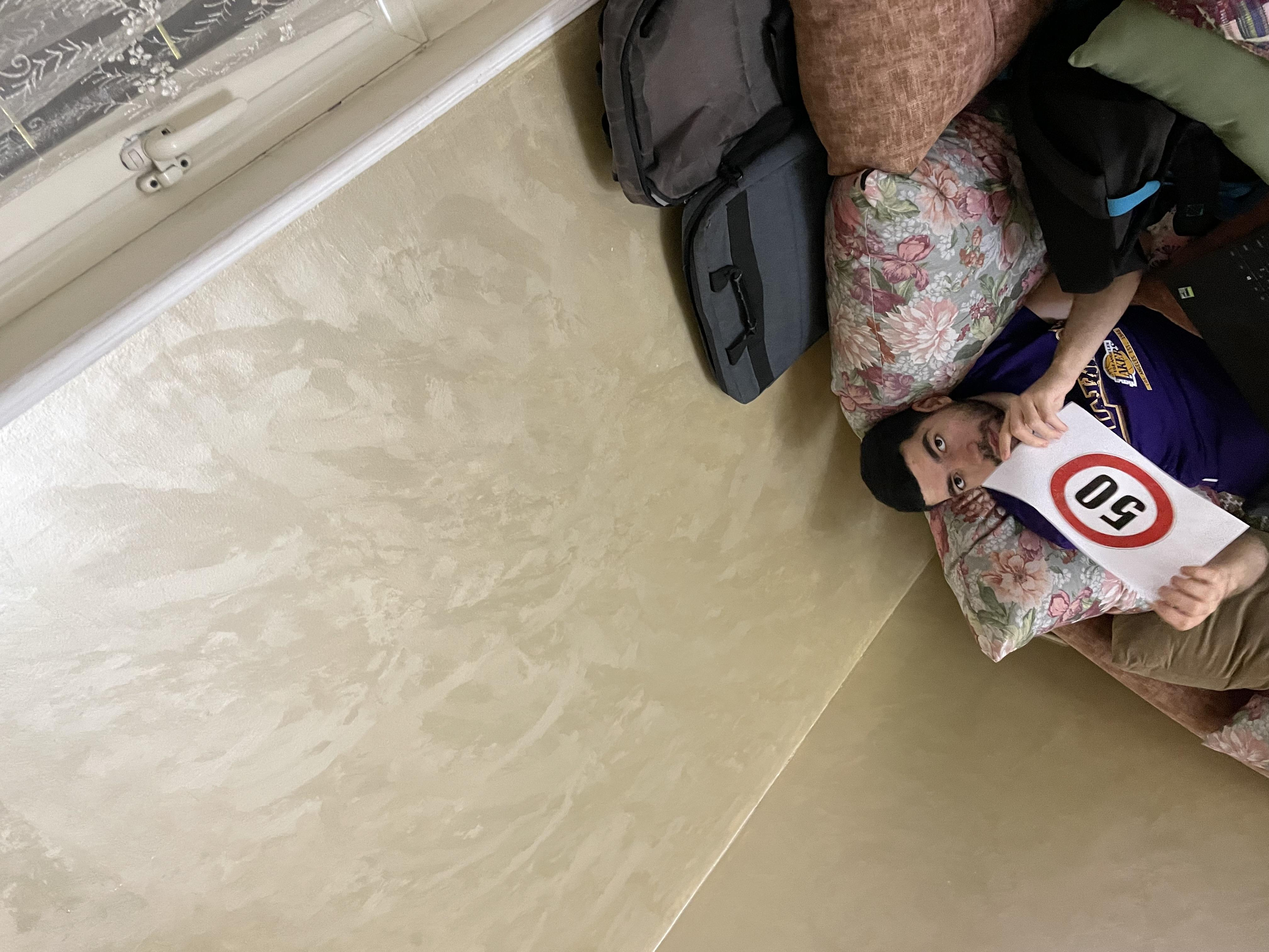50-Speed: (538, 789, 663, 877)
